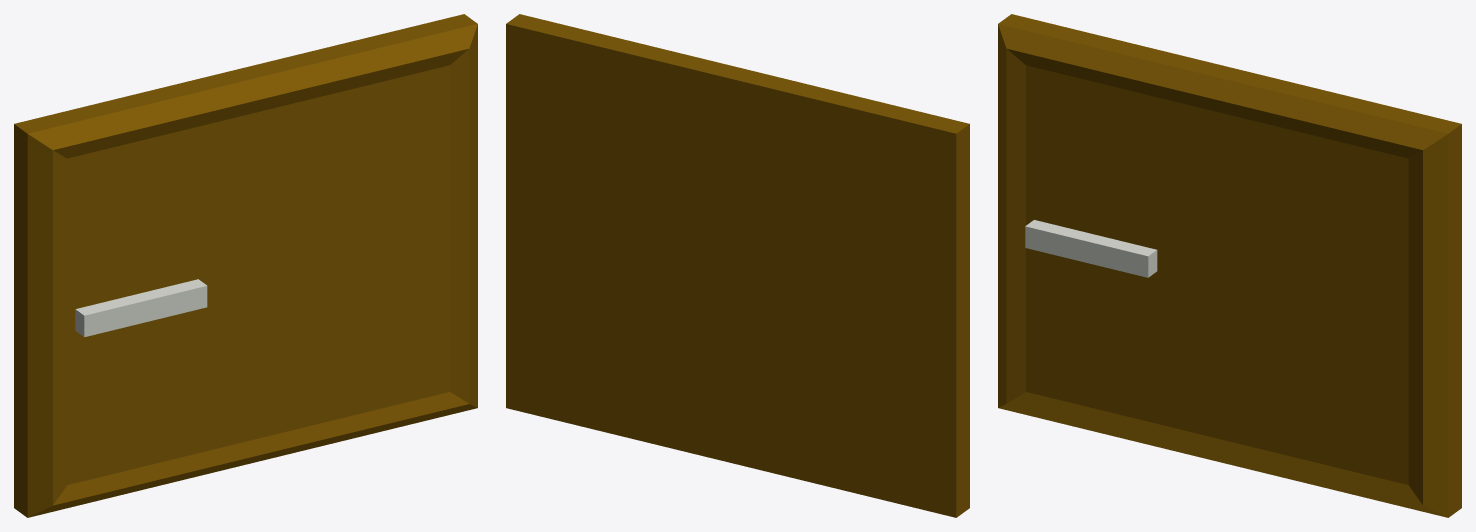
Rendered from hard_cupboard_1.fbx.
The picture shows the model from 3 angles, left to right: view 1: azimuth 30°, elevation 25°; view 2: azimuth 150°, elevation 25°; view 3: azimuth 330°, elevation 25°; orthographic projection.
Parts seen in each view (by area): view 1: hard_cupboard_1; view 2: hard_cupboard_1; view 3: hard_cupboard_1.
Part boxes in pixels (x1,y1,x2,y2): hard_cupboard_1: [14, 14, 477, 517]; hard_cupboard_1: [506, 14, 969, 517]; hard_cupboard_1: [998, 14, 1461, 517].
Size of the model in its own units: 3.35 by 2.73 by 0.3653.
